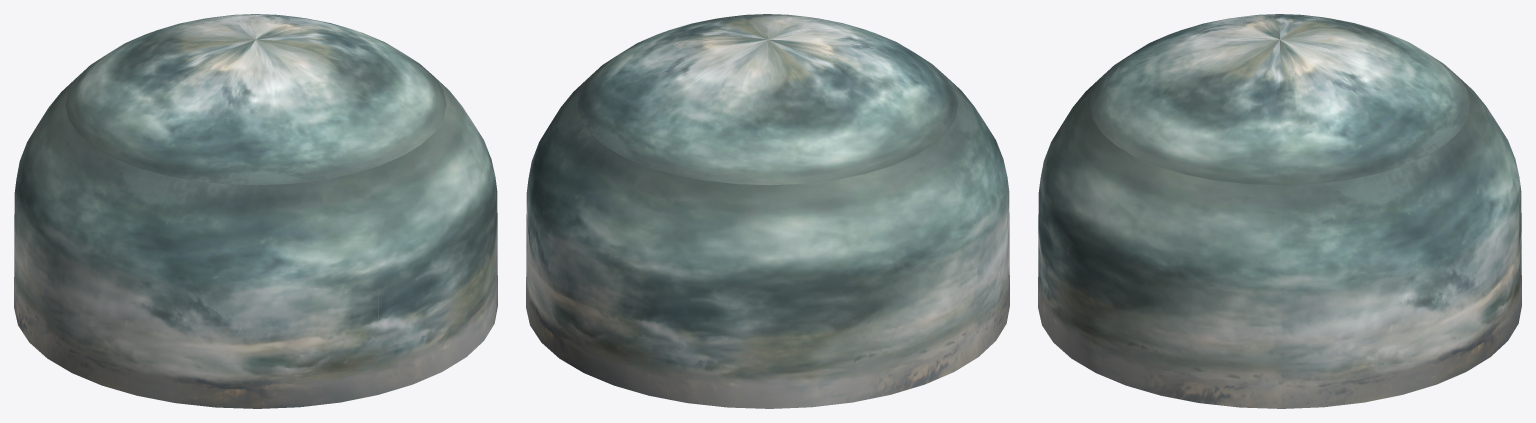
The model's file is Sky.obj.
3 renders of one model, left to right at view 1: azimuth 30°, elevation 25°; view 2: azimuth 150°, elevation 25°; view 3: azimuth 270°, elevation 25°, orthographic.
Bounding box in the file's own units: 2001 × 1245 × 2000.
